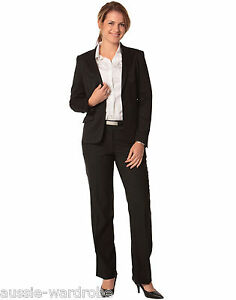F_W_suit jacket: (65, 42, 153, 147)
